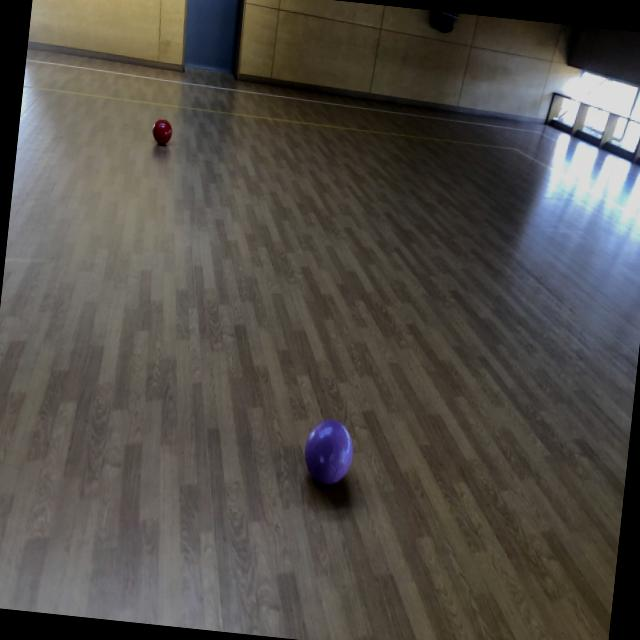purple_ball: (298, 416, 356, 486)
red_ball: (151, 118, 173, 146)
